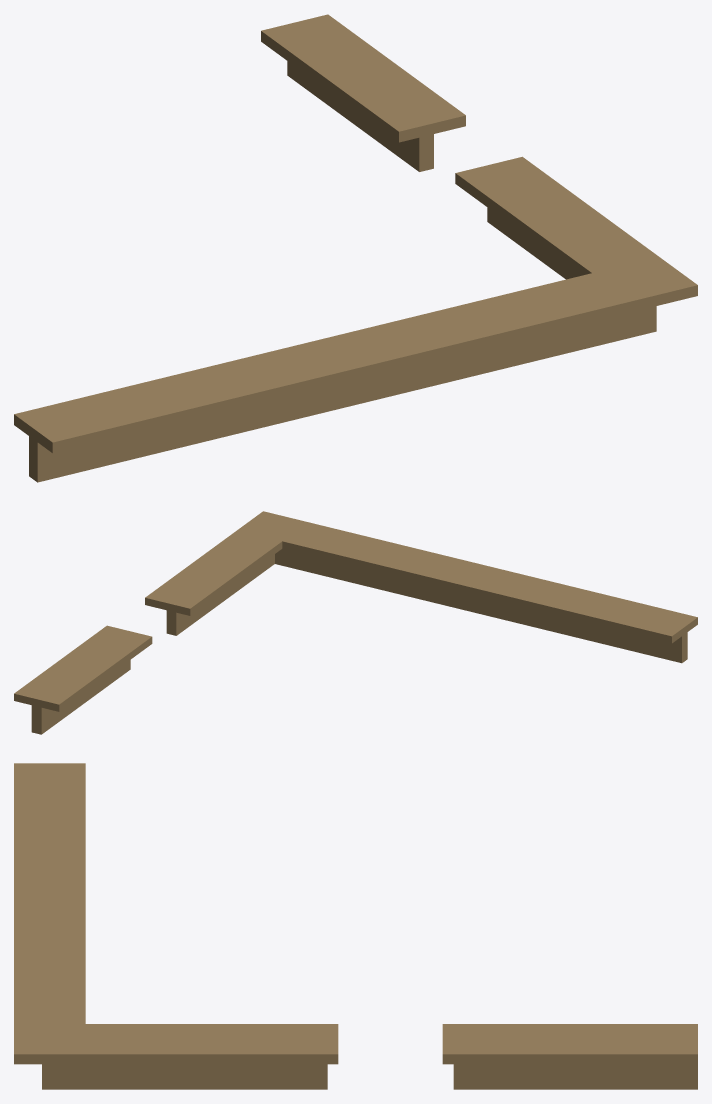
The model's file is counters.fbx.
The picture shows the model from 3 angles, top to bottom: view 1: azimuth 30°, elevation 25°; view 2: azimuth 150°, elevation 25°; view 3: azimuth 270°, elevation 25°; orthographic projection. The views are drawn at different scales.
Visible parts, largest first — view 1: counter; view 2: counter; view 3: counter.
Part boxes in pixels (x1=…): counter: x1=14, y1=14, x2=697, y2=482; counter: x1=14, y1=511, x2=697, y2=734; counter: x1=14, y1=763, x2=697, y2=1089.
Size of the model in its own units: 36.31 by 2.75 by 36.06.
